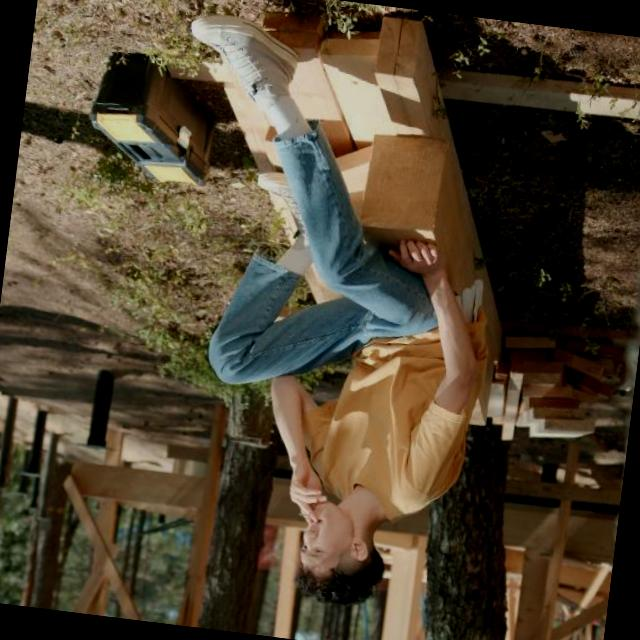cigarette: (288, 496, 325, 530)
